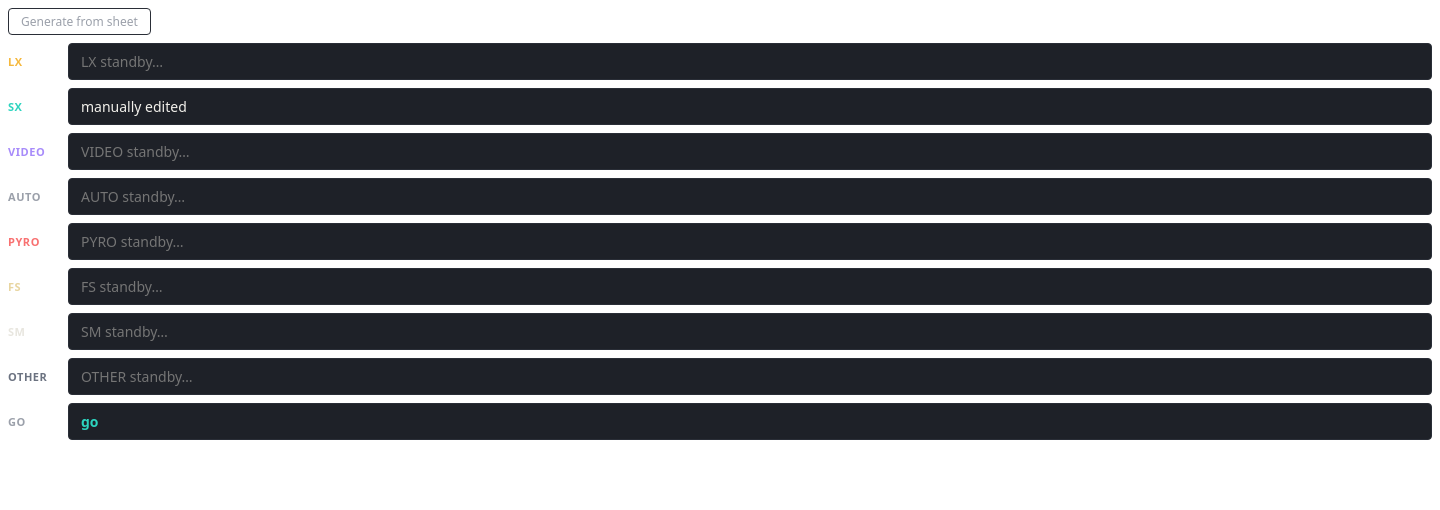
it: CallerLinesEditor — Generate from sheet › "Replace" in confirmation applies generated lines
Click the button with test id "caller-generate-btn". click: click(79, 22)
box: x1=8 y1=8 x2=151 y2=35
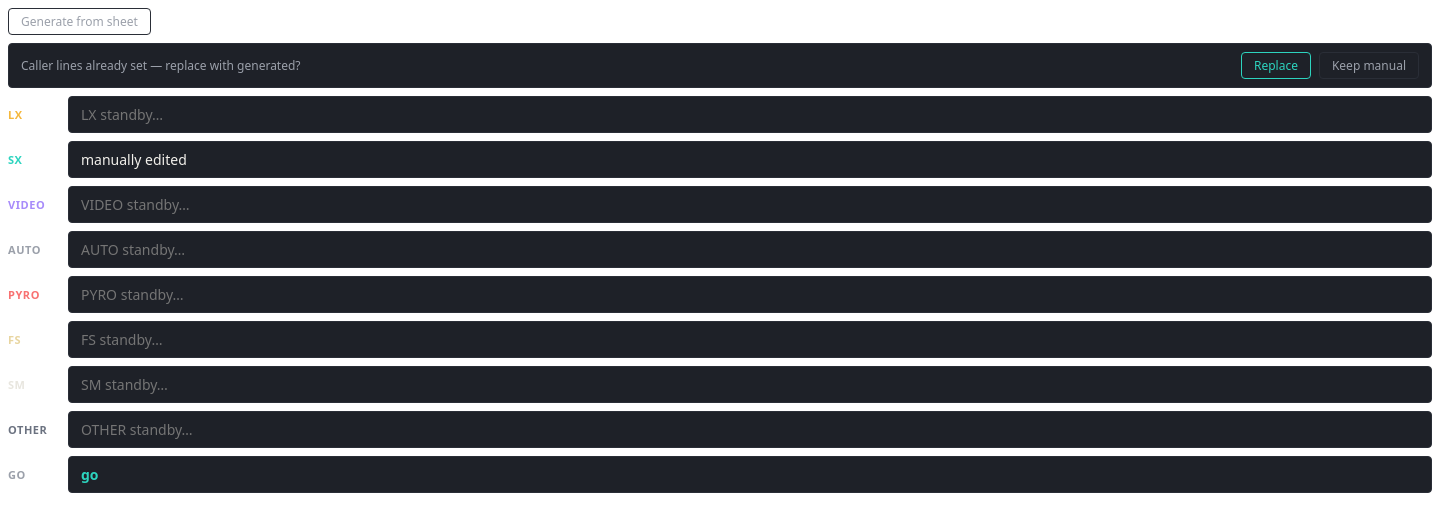
Click the button with test id "caller-generate-apply". click: click(1276, 66)
box: x1=1241 y1=52 x2=1311 y2=79
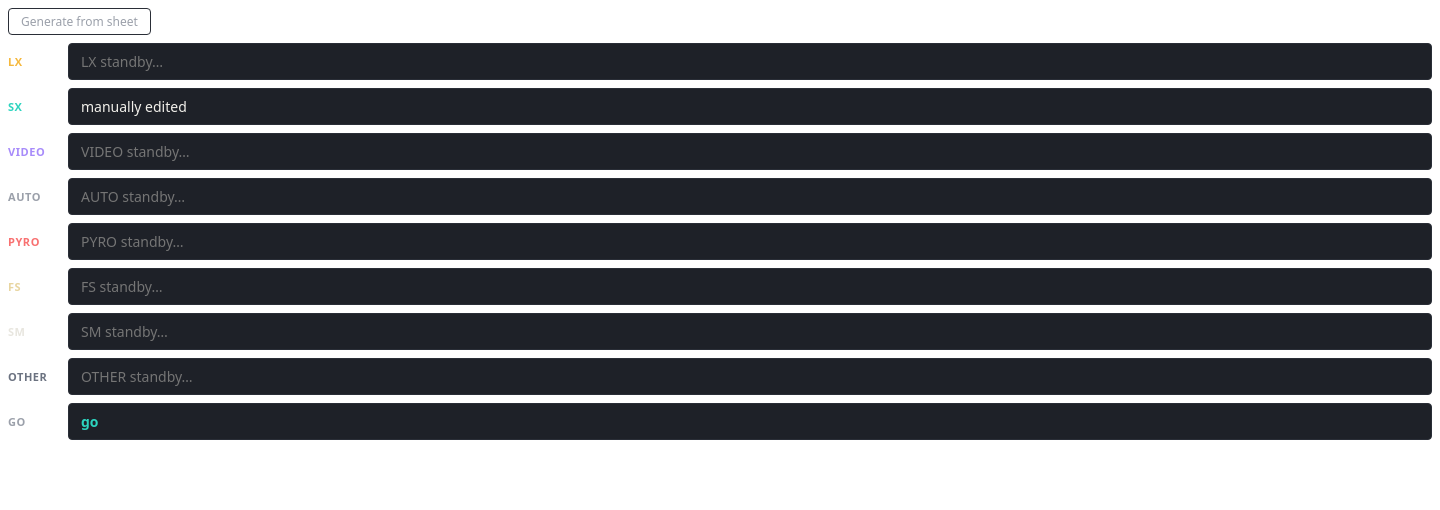
Now the element with test id "caller-generate-confirm" is gone
